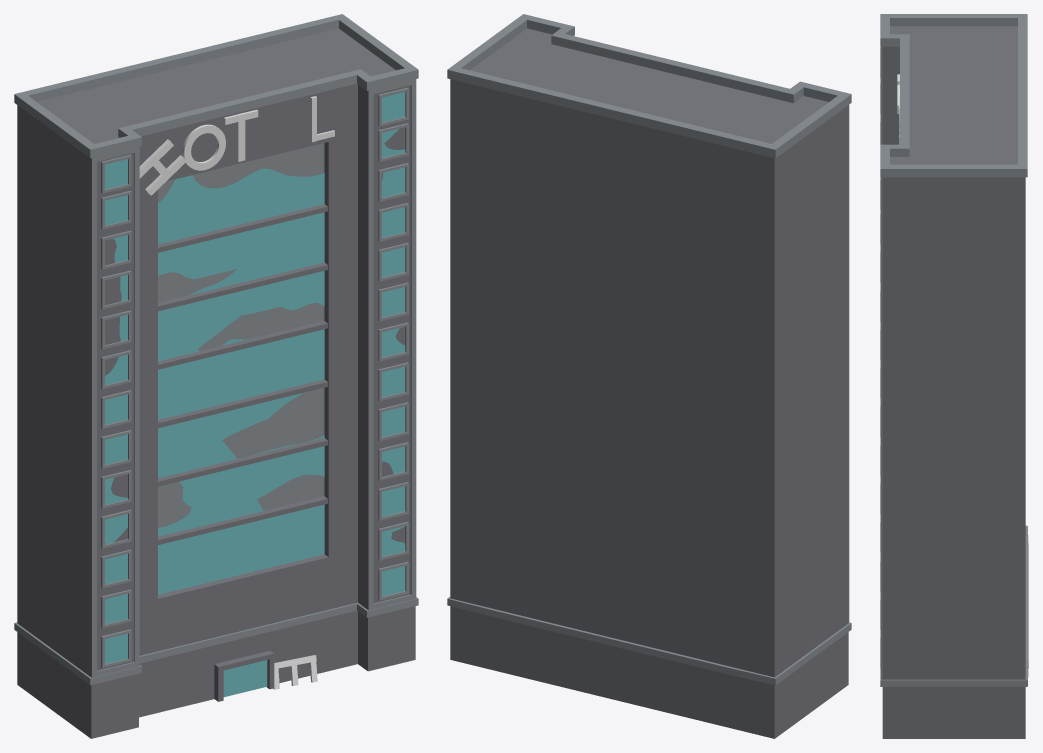
The model's file is Flat1_Kapot.fbx.
3 renders of one model, left to right at view 1: azimuth 30°, elevation 25°; view 2: azimuth 150°, elevation 25°; view 3: azimuth 270°, elevation 25°, orthographic. The views are drawn at different scales.
Visible parts, largest first — view 1: Flat1_Kapot; view 2: Flat1_Kapot; view 3: Flat1_Kapot.
Part boxes in pixels (x1=…): Flat1_Kapot: x1=14, y1=14, x2=418, y2=738; Flat1_Kapot: x1=447, y1=14, x2=851, y2=738; Flat1_Kapot: x1=880, y1=14, x2=1028, y2=738.
Bounding box in the file's own units: 709 × 1227 × 287.
